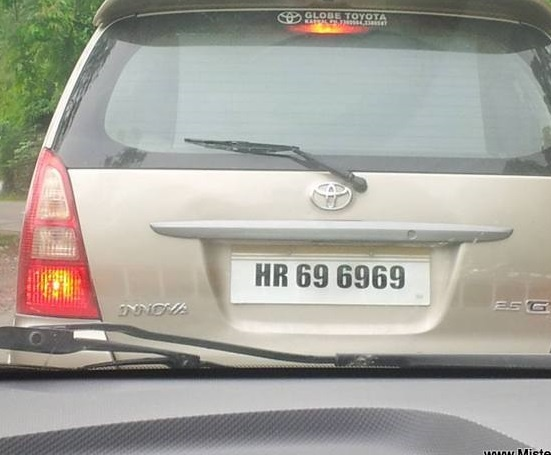plate: (227, 241, 444, 315)
